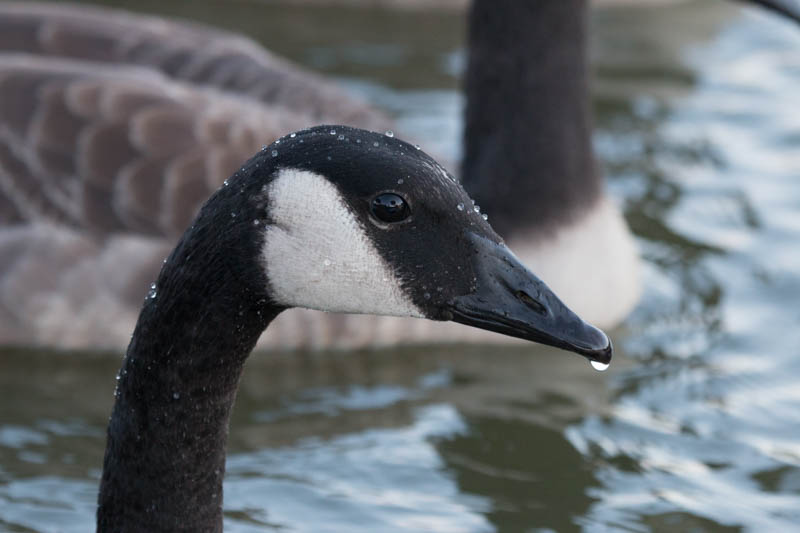goose-head: (217, 123, 612, 368)
